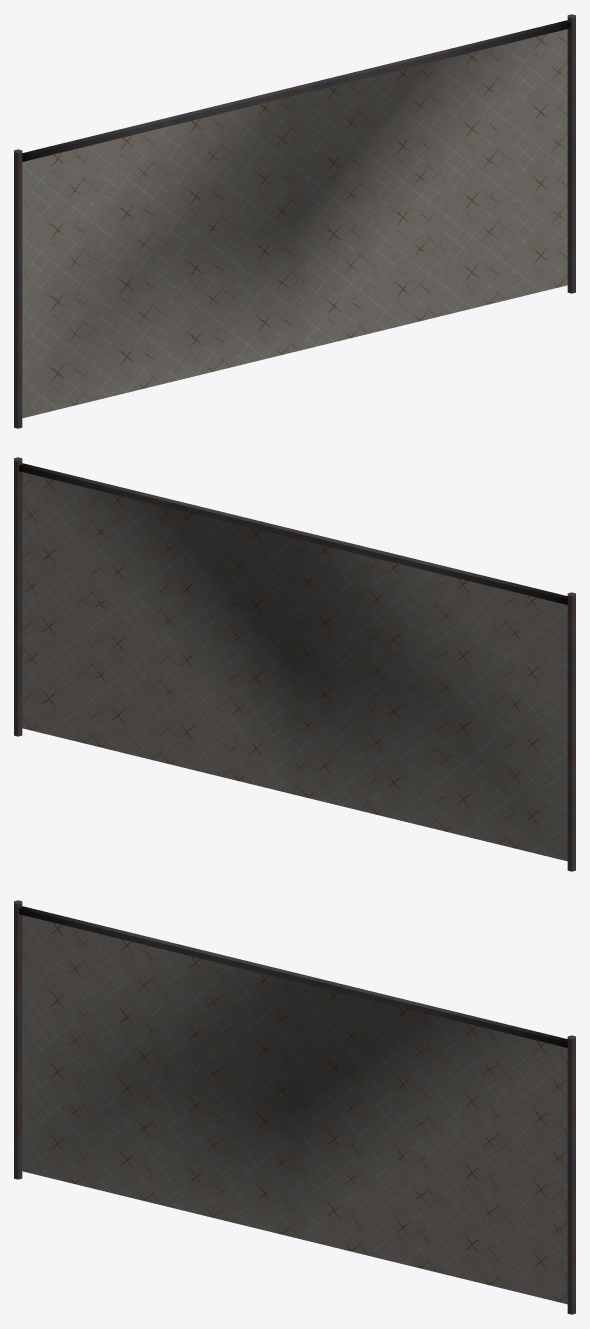
Rendered from chain_fence.glb.
The picture shows the model from 3 angles, top to bottom: view 1: azimuth 30°, elevation 25°; view 2: azimuth 150°, elevation 25°; view 3: azimuth 330°, elevation 25°; orthographic projection.
Parts seen in each view (by area): view 1: chain_fence; view 2: chain_fence; view 3: chain_fence.
Boxes of the visible parts, left/top/right/bottom form: chain_fence: left=14, top=14, right=575, bottom=428; chain_fence: left=14, top=457, right=575, bottom=871; chain_fence: left=14, top=900, right=575, bottom=1314.
Size of the model in its own units: 4.06 by 1.9 by 0.052.
2 materials, 2 textured.
